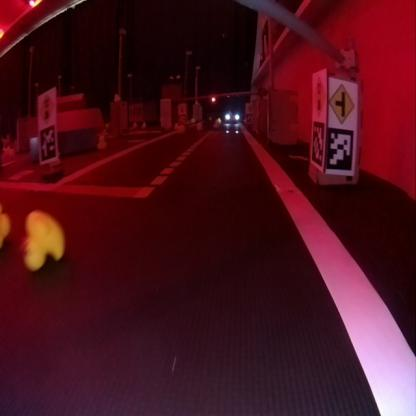Duckie: (23, 211, 62, 268)
Duckiebot: (223, 111, 240, 122)
Intersection sign: (330, 83, 354, 124)
QR code: (324, 127, 354, 171), (38, 124, 56, 160), (310, 120, 323, 164)
Signal sign: (312, 75, 324, 116), (38, 93, 54, 123)
